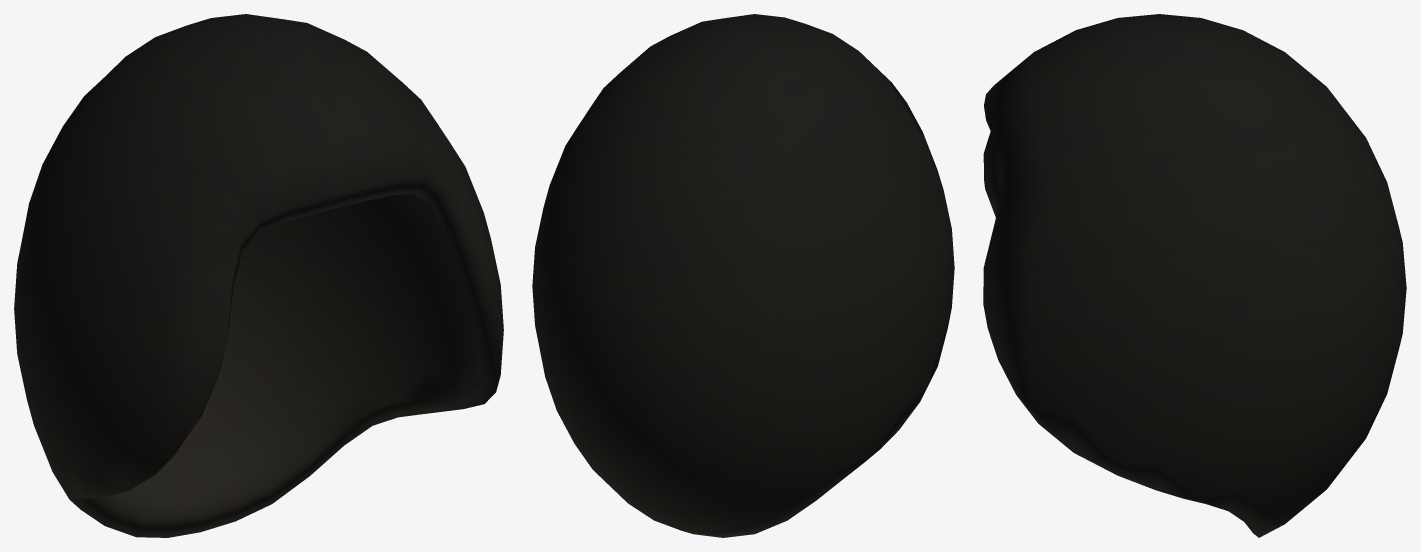
File: marie_hair.fbx
3 renders of one model, left to right at view 1: azimuth 30°, elevation 25°; view 2: azimuth 150°, elevation 25°; view 3: azimuth 270°, elevation 25°, orthographic. The views are drawn at different scales.
Visible parts, largest first — view 1: Marie_Hair; view 2: Marie_Hair; view 3: Marie_Hair.
Part boxes in pixels (box(x1,y1,x2,y2)): Marie_Hair: box(14, 14, 503, 537); Marie_Hair: box(532, 14, 954, 537); Marie_Hair: box(983, 14, 1406, 537).
Size of the model in its own units: 60.13 by 76.08 by 59.41.
